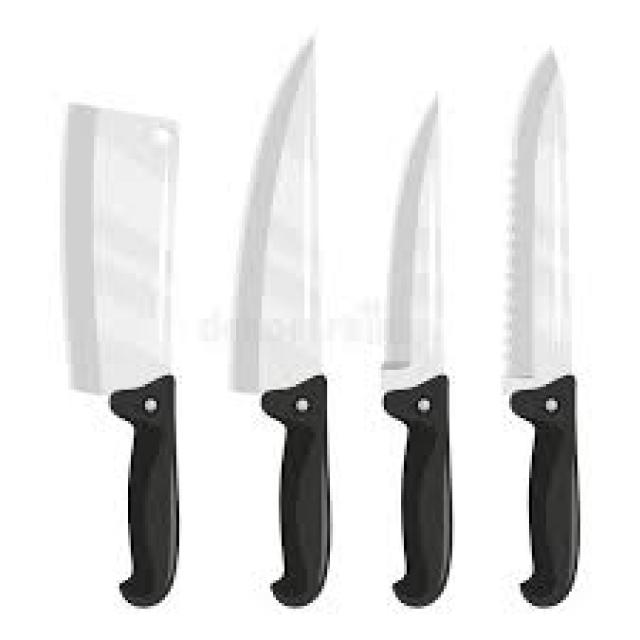Knife: (63, 99, 179, 606), (230, 31, 330, 606), (501, 43, 580, 606), (378, 88, 452, 606)
